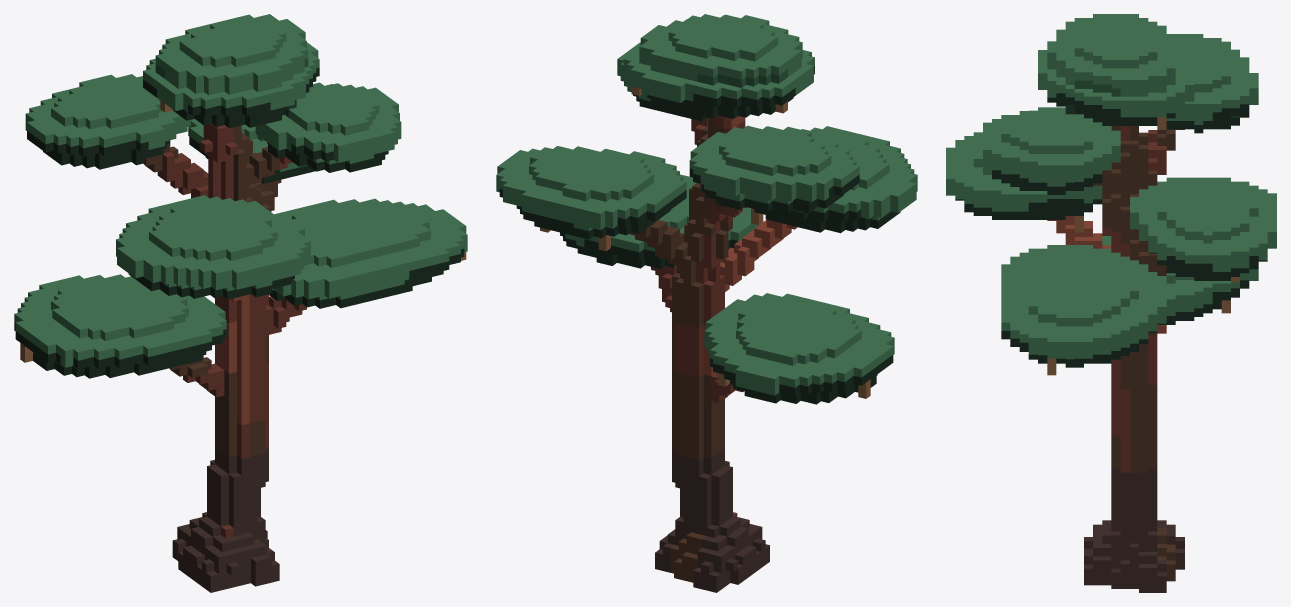
The model's file is Mountain_Pine_v3_A.fbx.
3 views of the same model, side by side, from view 1: azimuth 30°, elevation 25°; view 2: azimuth 150°, elevation 25°; view 3: azimuth 270°, elevation 25° (orthographic).
Visible parts, largest first — view 1: Mountain_Pine_v3_A; view 2: Mountain_Pine_v3_A; view 3: Mountain_Pine_v3_A.
Boxes of the visible parts, box(x1,y1,x2,y2) form: Mountain_Pine_v3_A: box(14, 14, 467, 592); Mountain_Pine_v3_A: box(496, 14, 917, 592); Mountain_Pine_v3_A: box(946, 14, 1276, 592).
Size of the model in its own units: 3.13 by 4.27 by 2.4.
Materials: 1 (1 with a texture image).
